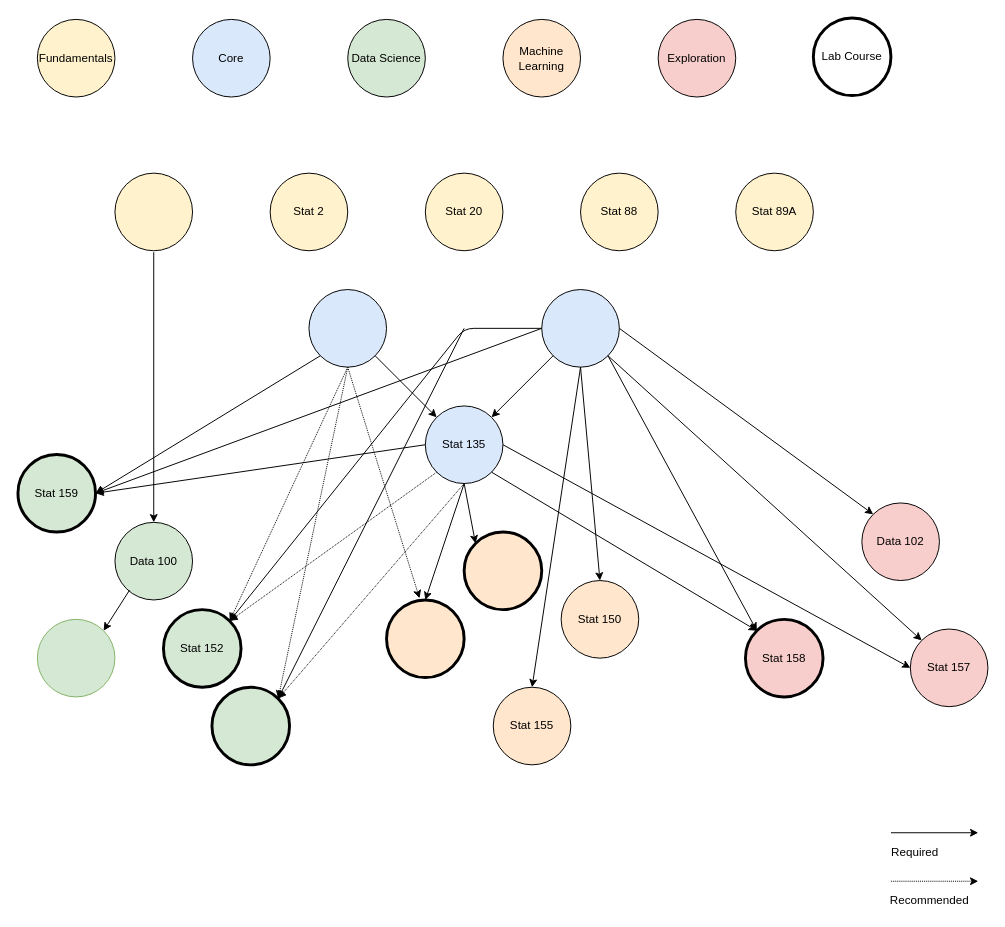
This 1005x927 diagram has some shape labels left out. The centre of each missing label's shape, as x and y in pixels:
"Data 8" goes at [153,211].
"Stat 133" goes at [347,328].
"Stat 134" goes at [580,328].
"Stat 140" goes at [75,657].
"Stat 151A" goes at [425,638].
"Stat 153" goes at [250,725].
"Stat 154" goes at [502,570].
